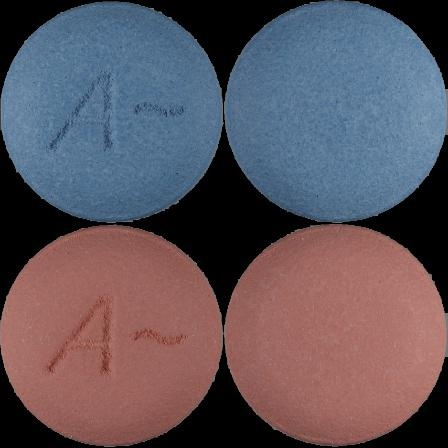49999-763: (0, 0, 224, 224)
